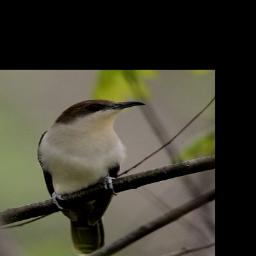Cuckoo: (37, 99, 147, 256)
